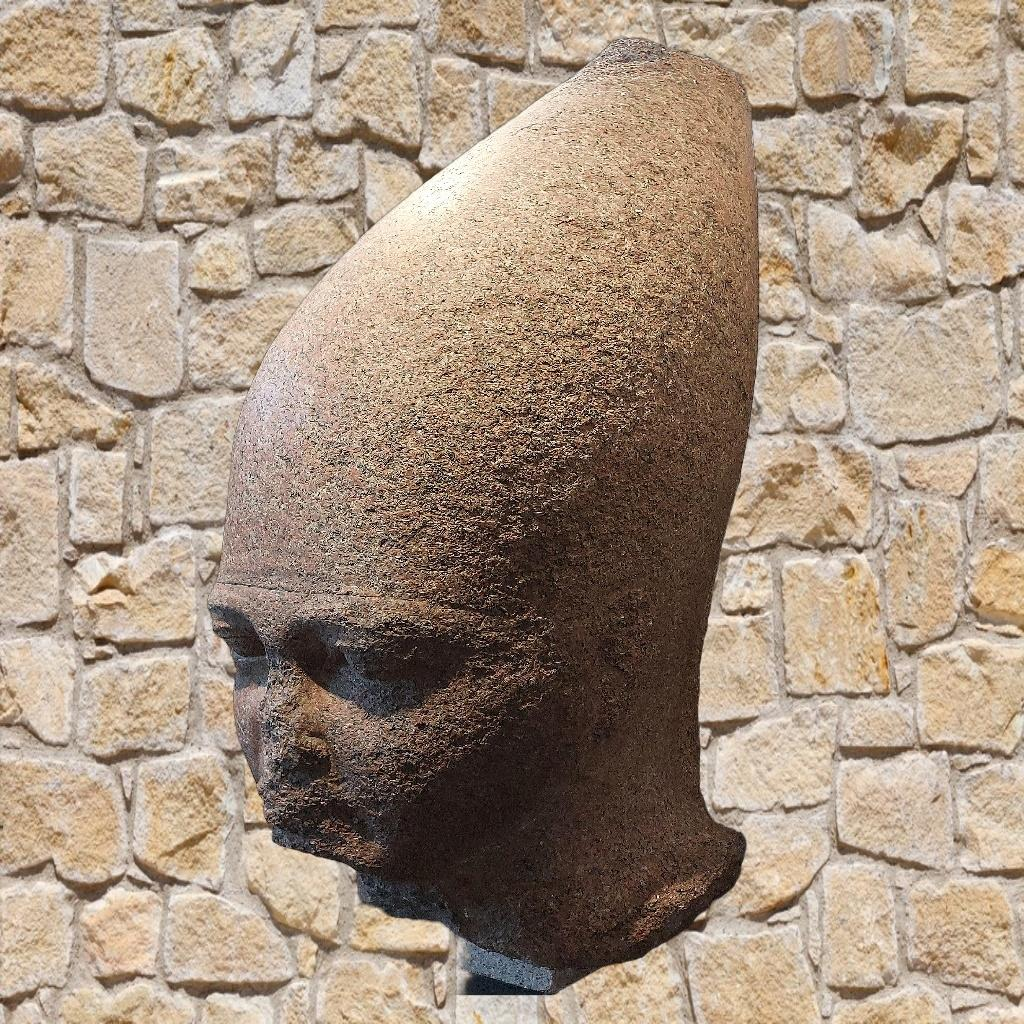Clossal head of Senwosret 1: (202, 34, 768, 996)
